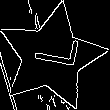L_W: (24, 37, 79, 77)
